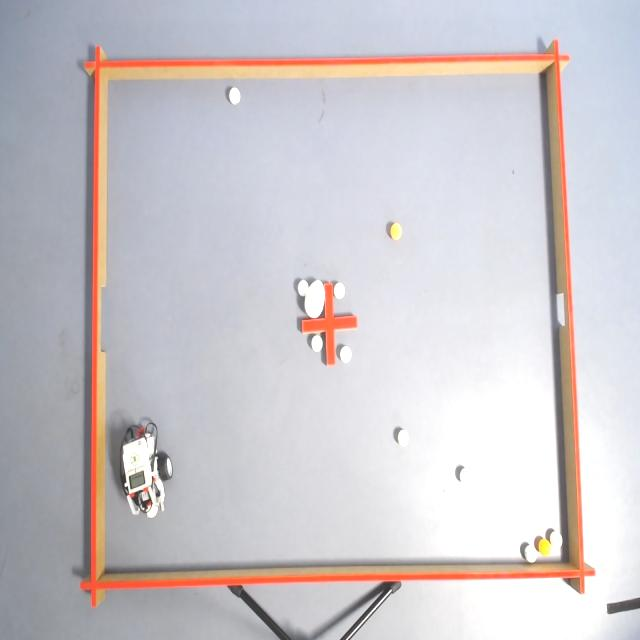boundaries: (542, 32, 596, 596), (75, 558, 598, 612), (82, 38, 570, 87), (77, 44, 111, 614)
cross: (300, 281, 358, 366)
egg: (304, 278, 328, 318)
large_goal: (80, 259, 116, 372)
orange_ball: (537, 536, 553, 560), (388, 221, 404, 242)
robot: (119, 420, 173, 526)
small_goal: (544, 272, 580, 345)
white_ball: (225, 85, 244, 109), (548, 527, 564, 551), (457, 466, 473, 490), (395, 425, 410, 450), (523, 543, 538, 564), (310, 332, 322, 356), (340, 343, 353, 365), (145, 502, 158, 524), (297, 277, 309, 297), (334, 280, 346, 300)
